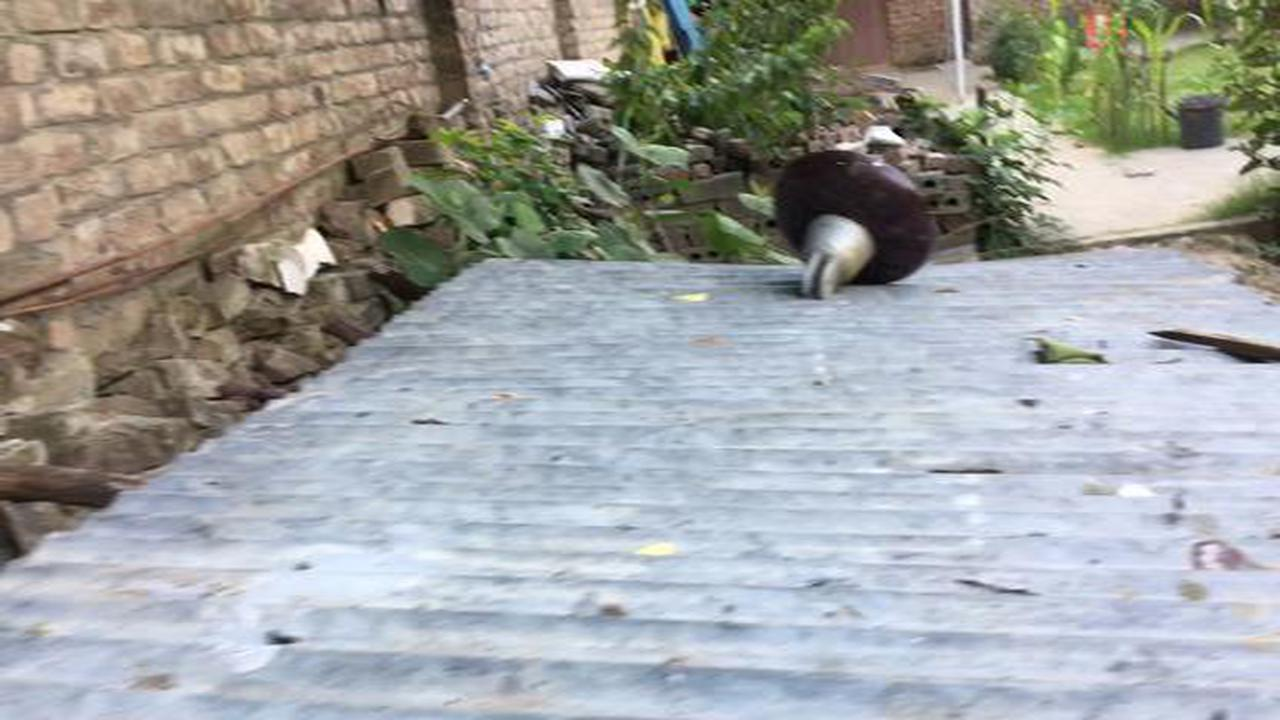insulator_disc: (772, 150, 941, 310)
